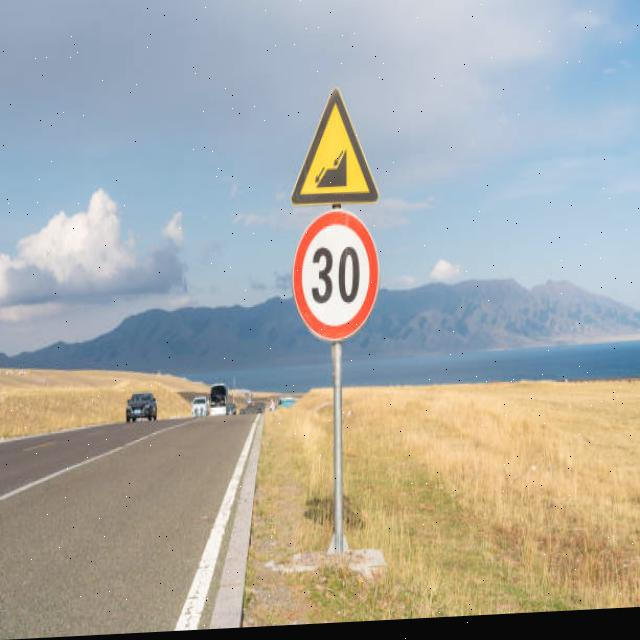Speed limit 30: (292, 210, 382, 350)
